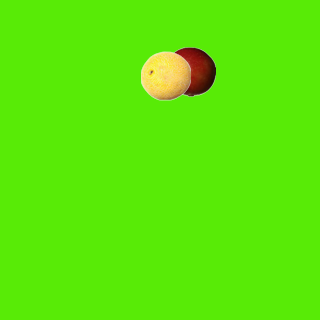Apple Braeburn: (165, 46, 215, 96)
Cantaloupe 1: (140, 50, 190, 100)
